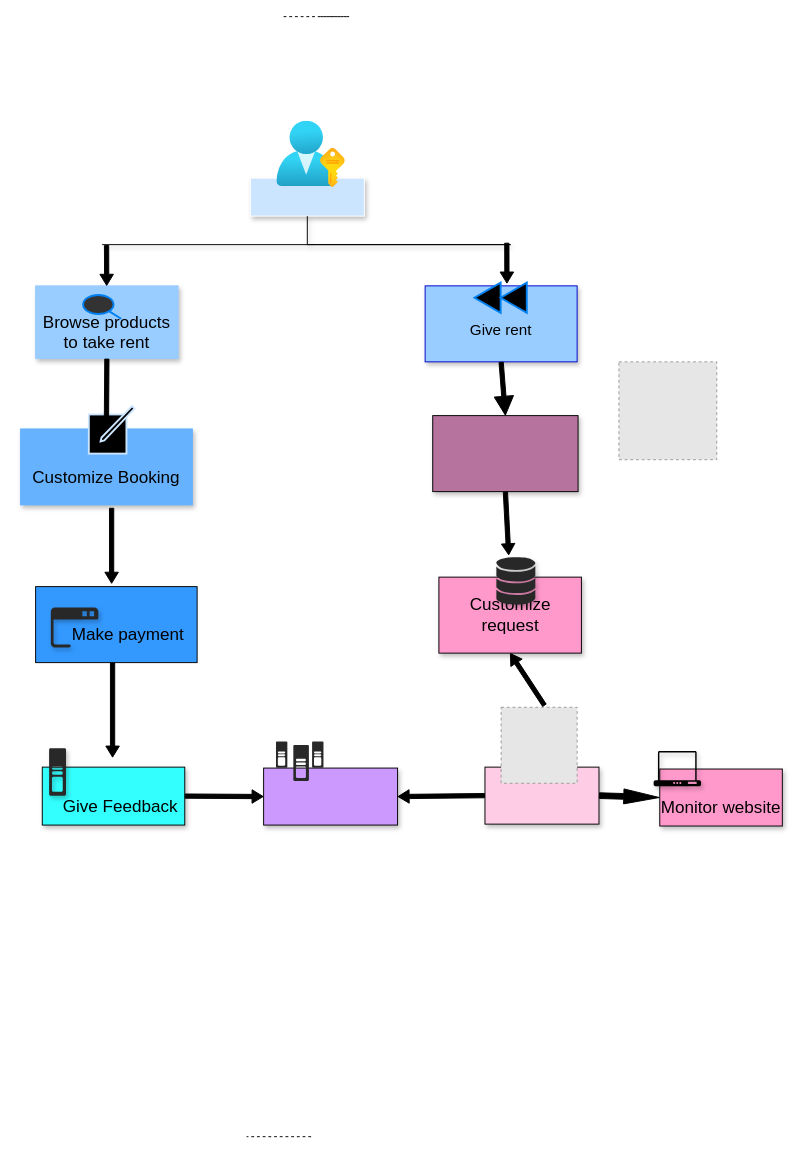
Image size: 805x1154. Some labels were removed from this diagram. Grey dashed boxes stand in for pictures. The shapes that lost their labels are listed below. From the top down, each one's centre as x and y in pixels, then its label:
the point at 308,198: User
the point at 506,454: Send Details
the point at 331,797: Check Feedback
the point at 542,796: Admin
